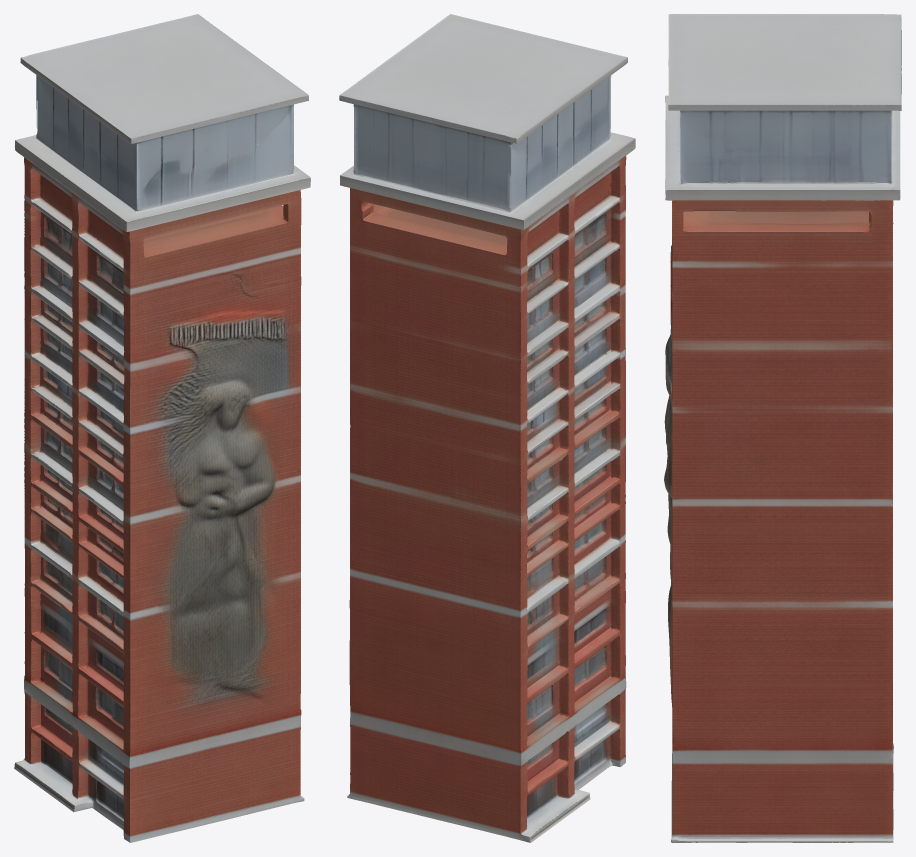
File: unam_torre_rectoria.glb
3 renders of one model, left to right at view 1: azimuth 30°, elevation 25°; view 2: azimuth 150°, elevation 25°; view 3: azimuth 270°, elevation 25°, orthographic. The views are drawn at different scales.
Parts seen in each view (by area): view 1: model; view 2: model; view 3: model.
Boxes of the visible parts, bbox=[...] form: model: bbox=[14, 14, 310, 842]; model: bbox=[339, 14, 635, 842]; model: bbox=[664, 14, 901, 842].
Size of the model in its own units: 0.5079 by 1.82 by 0.5306.
Materials: 1 (1 with a texture image).
